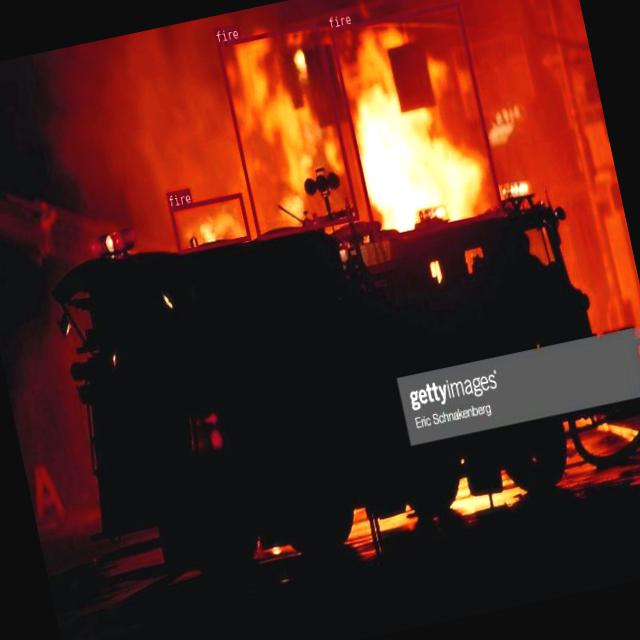fire: (328, 0, 504, 242), (216, 21, 358, 240), (169, 192, 250, 253)
